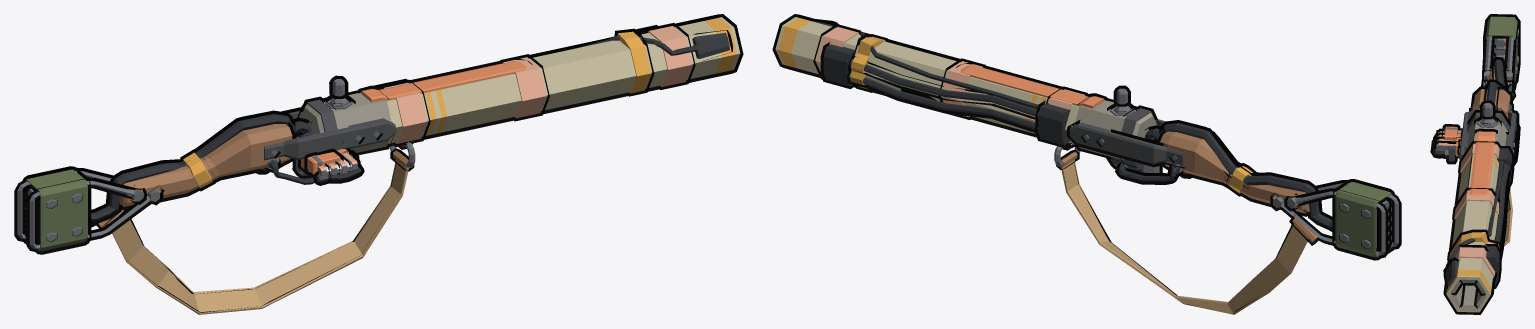
Rendered from gun.glb.
The picture shows the model from 3 angles, left to right: view 1: azimuth 30°, elevation 25°; view 2: azimuth 150°, elevation 25°; view 3: azimuth 270°, elevation 25°; orthographic projection. The views are drawn at different scales.
Parts seen in each view (by area): view 1: Cube.000; view 2: Cube.000; view 3: Cube.000, Cube.001.
Boxes of the visible parts, bbox=[...] form: Cube.000: bbox=[14, 14, 743, 314]; Cube.000: bbox=[772, 14, 1401, 314]; Cube.000: bbox=[1430, 14, 1520, 314]; Cube.001: bbox=[1516, 28, 1519, 74].
Bounding box in the file's own units: 1380 × 412 × 189.
